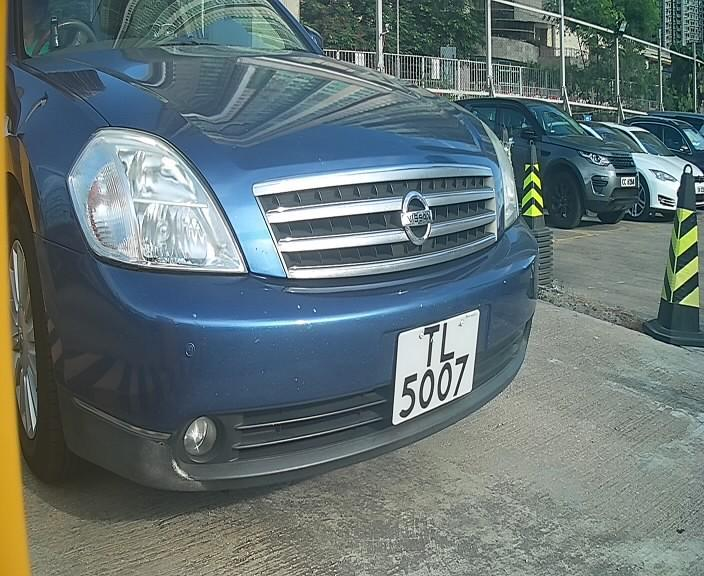privatecar: (1, 2, 551, 510)
